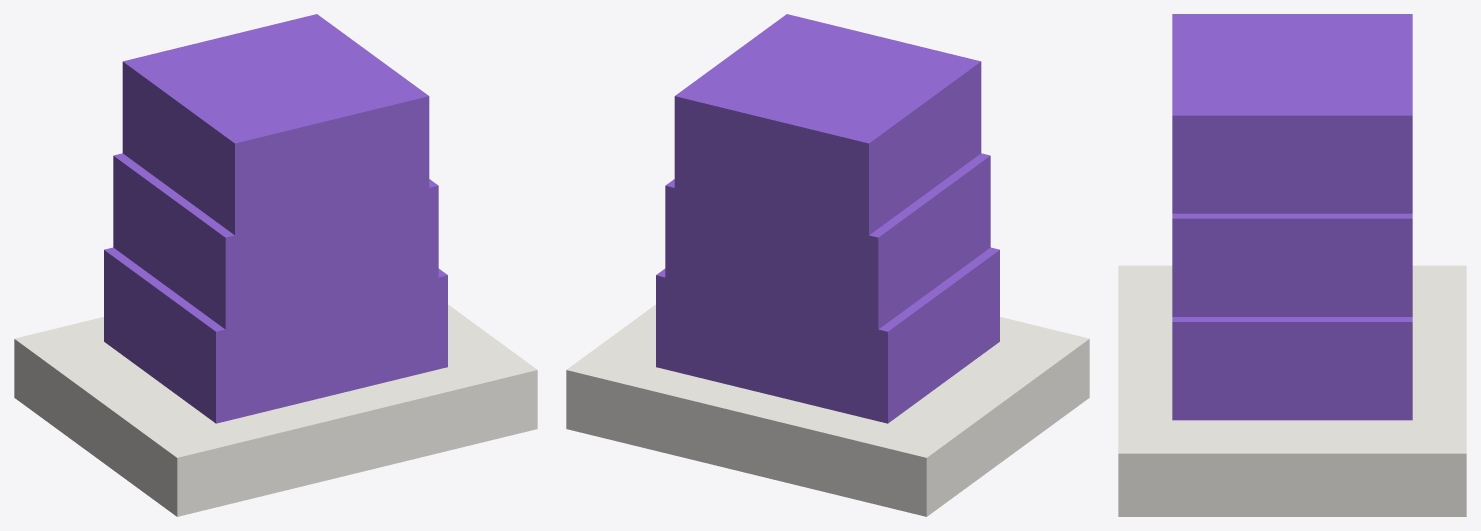
Rendered from art_easel-lv3.glb.
3 views of the same model, side by side, from view 1: azimuth 30°, elevation 25°; view 2: azimuth 150°, elevation 25°; view 3: azimuth 270°, elevation 25° (orthographic). The views are drawn at different scales.
Visible parts, largest first — view 1: Base, Level3, Level1, Level2; view 2: Base, Level3, Level1, Level2; view 3: Base, Level3, Level1, Level2.
Part boxes in pixels (x1=…): Base: x1=14, y1=304, x2=537, y2=516; Level3: x1=122, y1=14, x2=429, y2=235; Level1: x1=104, y1=247, x2=447, y2=423; Level2: x1=113, y1=153, x2=438, y2=329; Base: x1=566, y1=304, x2=1089, y2=516; Level3: x1=674, y1=14, x2=981, y2=235; Level1: x1=656, y1=247, x2=999, y2=423; Level2: x1=665, y1=153, x2=990, y2=329; Base: x1=1118, y1=265, x2=1466, y2=516; Level3: x1=1172, y1=14, x2=1412, y2=213; Level1: x1=1172, y1=317, x2=1412, y2=420; Level2: x1=1172, y1=213, x2=1412, y2=316.
Size of the model in its own units: 1.15 by 1.02 by 0.9.
